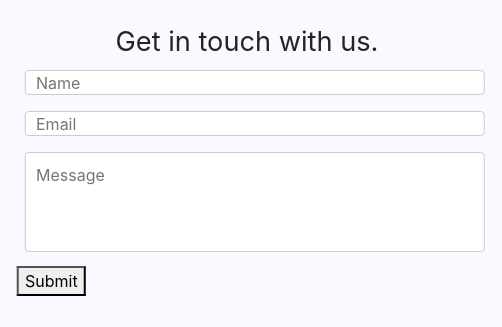
Test: Contact form › displays error message when email is not entered
Type "Test_User" into the field with placeholder "Name" at coordinates (255, 83), box [25,70,485,95]
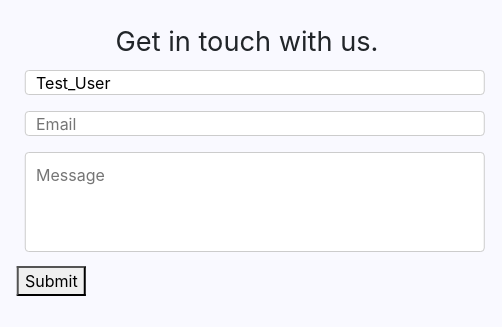
Type "Test message" into the text box with placeholder "Message" at coordinates (255, 202), box [25,152,485,252]
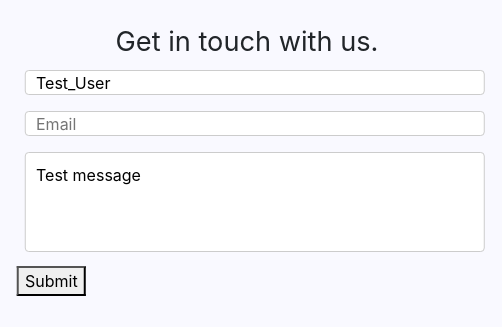
Click the button "Submit" at coordinates (51, 281), box [17,266,86,296]
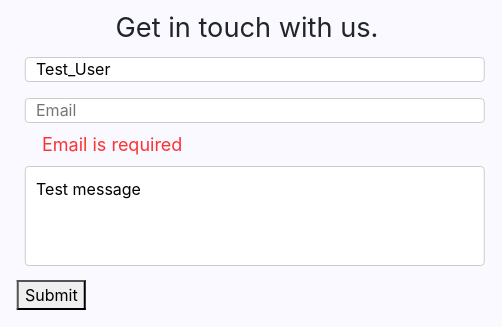
Result: the text "Email is required" is shown at [42,134,182,155]
